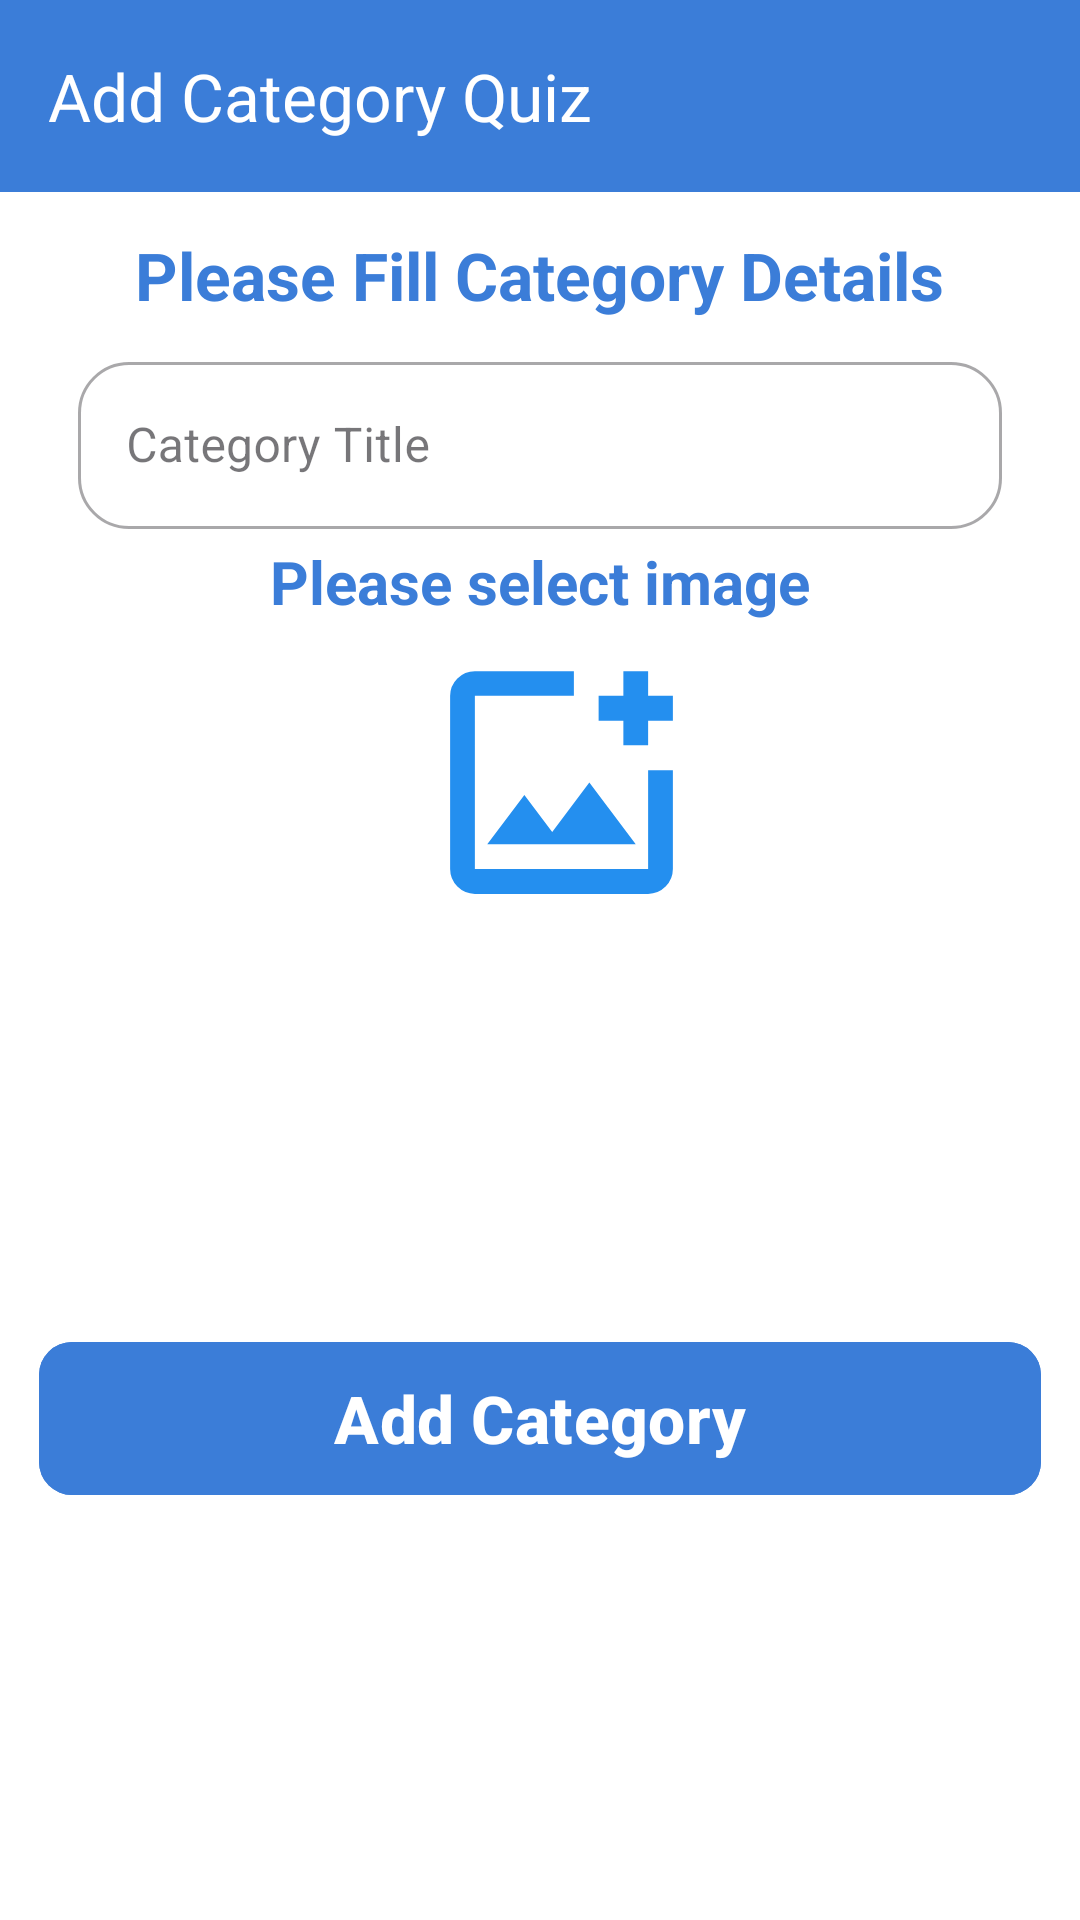

Icons on this 1080w x 1920h Android screen, each with the point to tap as [x,y]:
add photo: [561,782]
